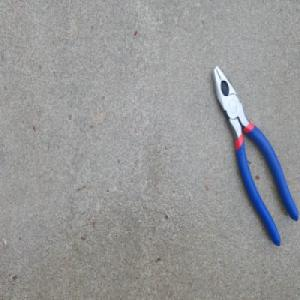Pliers: (210, 66, 297, 248)
